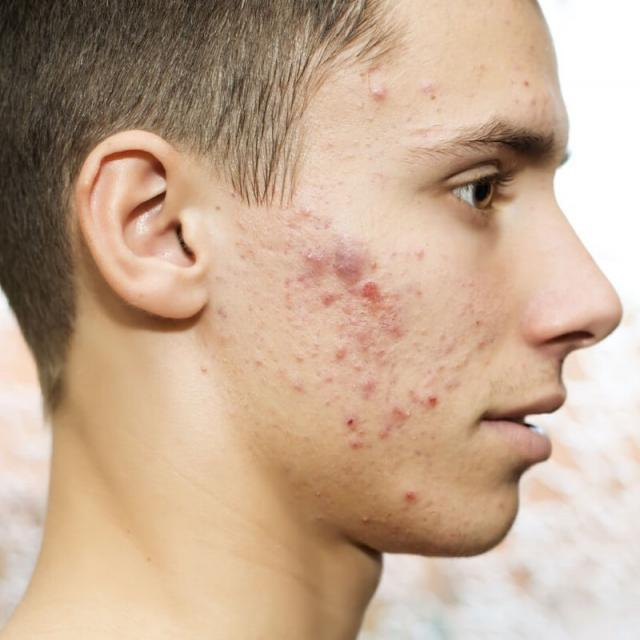Acne: (286, 223, 425, 387), (479, 66, 560, 117), (338, 393, 402, 457), (355, 79, 398, 116), (284, 184, 324, 222), (207, 309, 246, 347), (419, 71, 452, 111), (394, 478, 418, 520), (423, 378, 444, 424), (227, 240, 260, 269)
